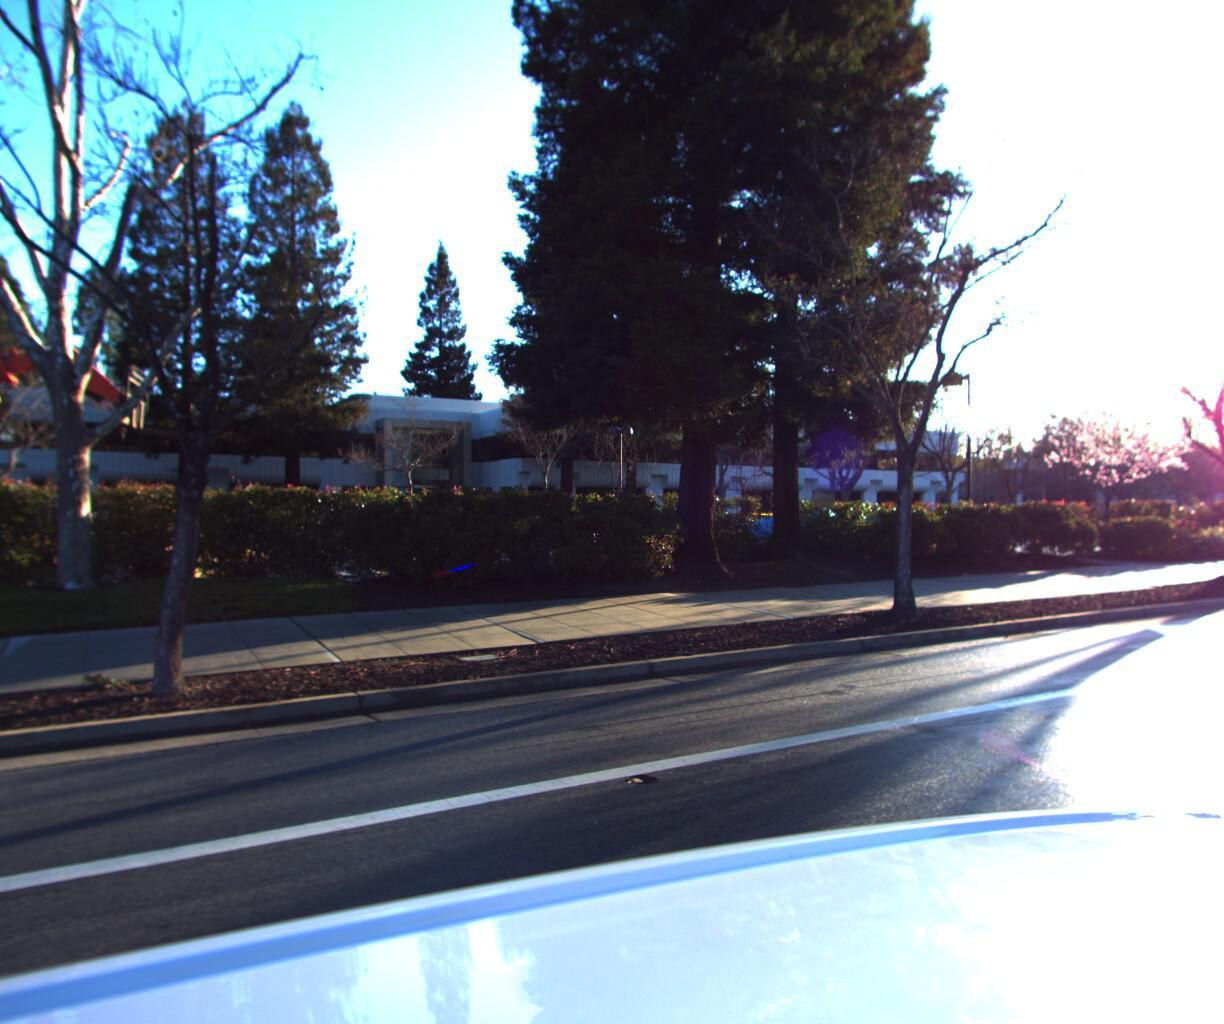other_vehicle: (0, 304, 235, 615)
